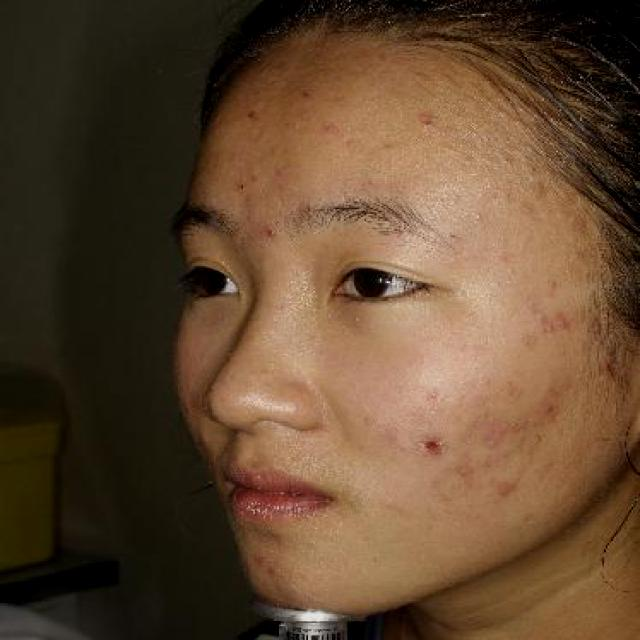blackhead: (413, 111, 442, 132), (291, 86, 316, 106), (271, 163, 293, 180), (442, 229, 466, 243), (246, 172, 267, 186), (235, 180, 252, 192)
darkspot: (406, 425, 454, 462)
